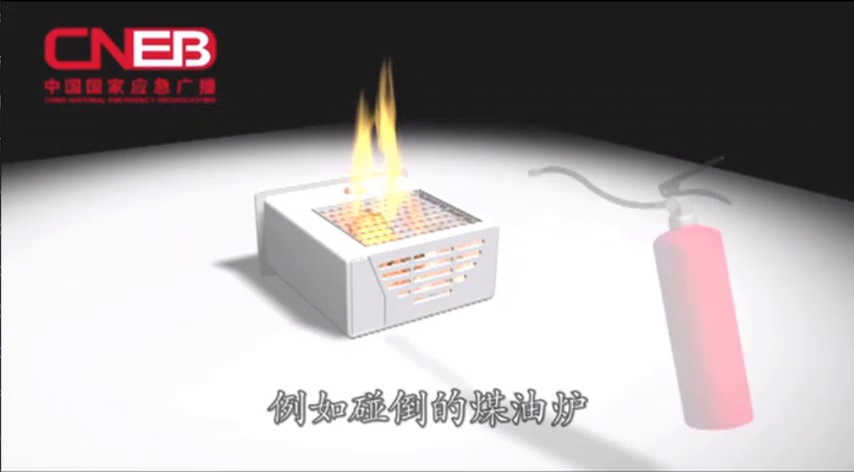fire: (333, 56, 429, 246)
